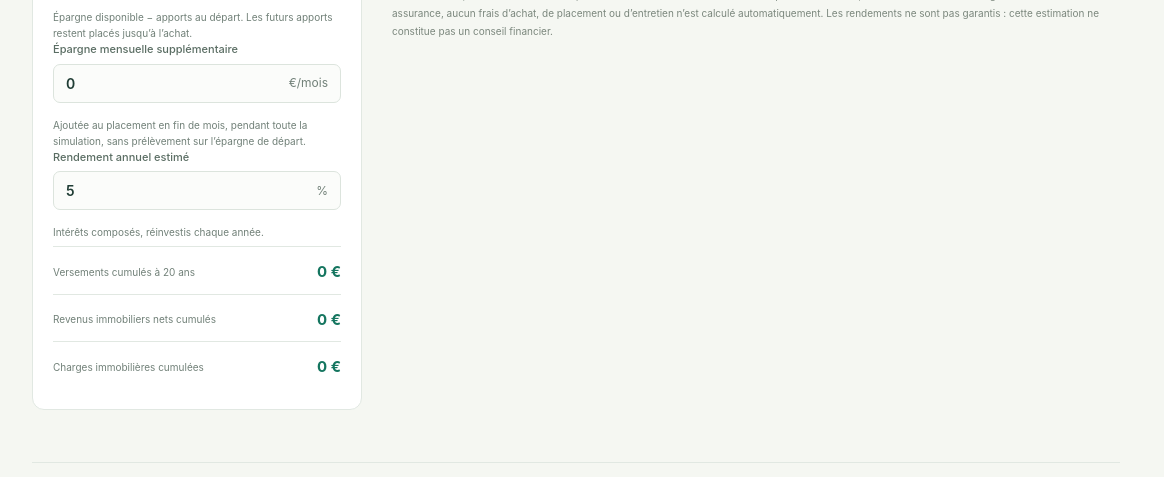
Test: App › hides and ignores charges for secondary and restores them for primary
This screenshot has width=1164, height=477.
(page scrolled)
Replace the text in the number field with id "investment-rate" with "0" at point(185, 191), box [54,172,316,209]
(page scrolled)
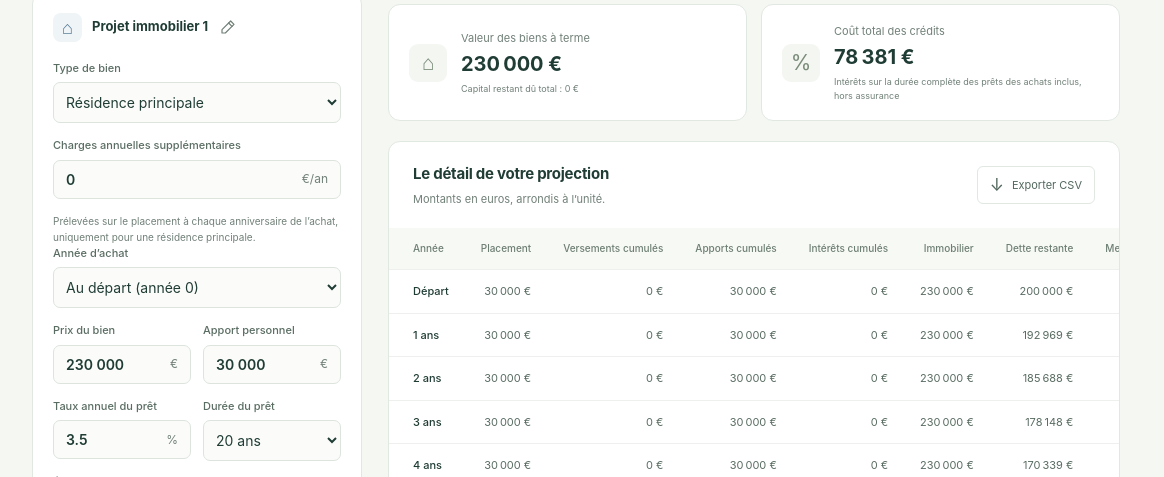
Replace the text in the field with id "annual-charges-1" with "1000" at point(178, 179), box [54,161,302,198]
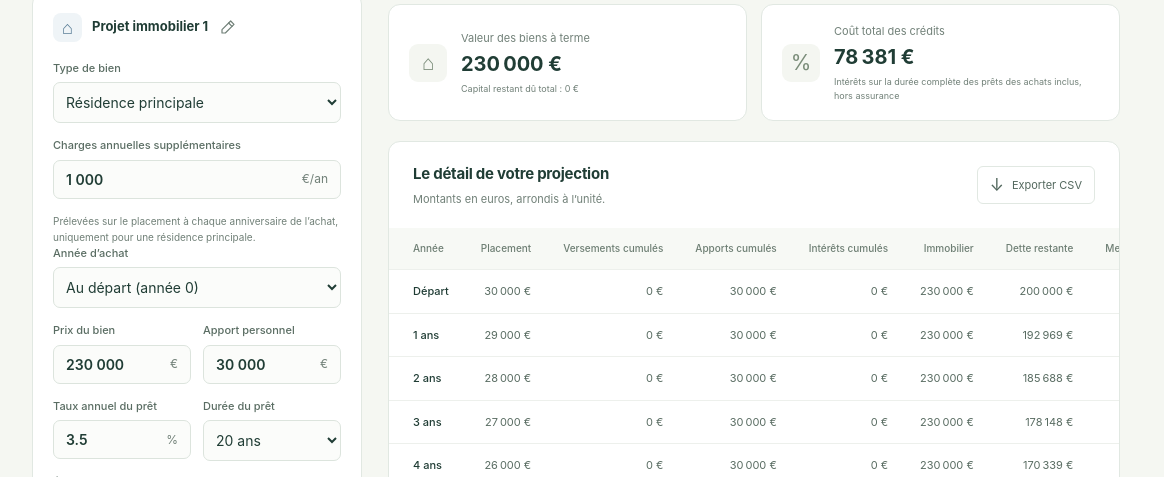
Select "Résidence secondaire" in the dropdown labelled "Type de bien" at point(197, 103), box [53,82,341,123]
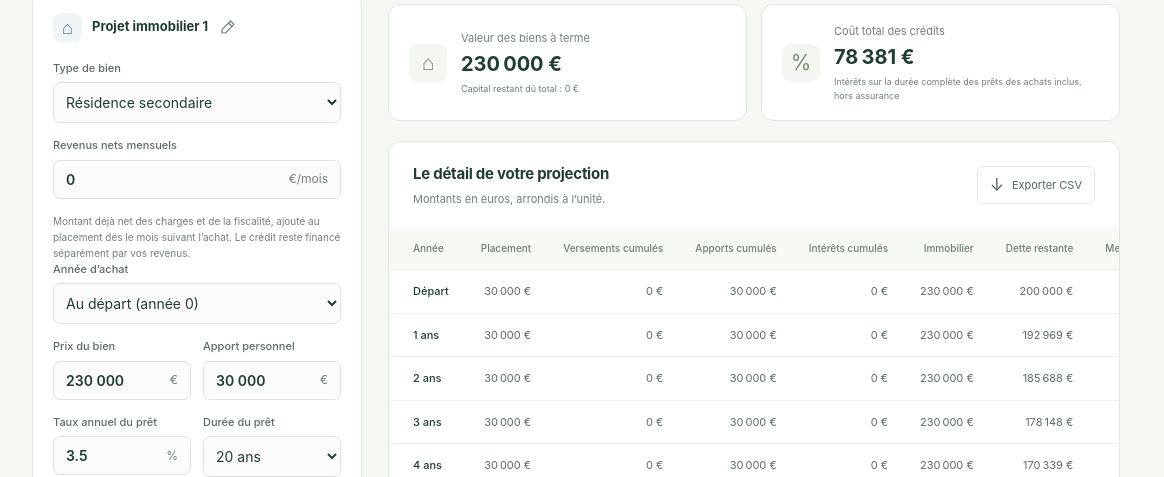
Select "Résidence principale" in the dropdown labelled "Type de bien" at point(197, 103), box [53,82,341,123]
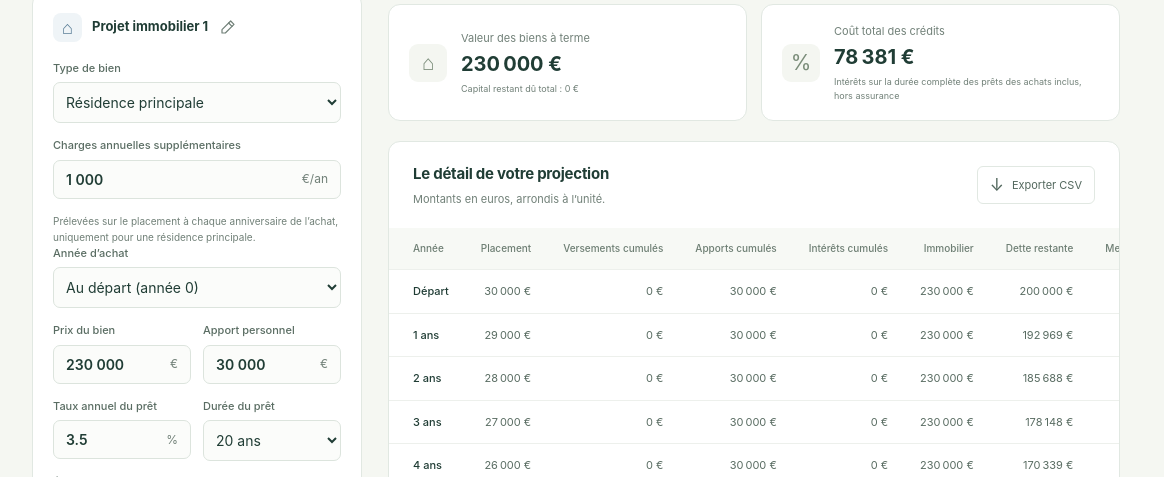
Result: the field with id "annual-charges-1" holds "1 000" at [54,161,302,198]
